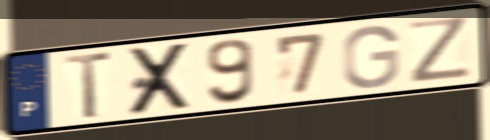7: (272, 30, 327, 97)
9: (204, 37, 256, 106)
G: (340, 23, 402, 91)
T: (62, 49, 116, 122)
X: (126, 39, 195, 119)
Z: (407, 14, 475, 86)
